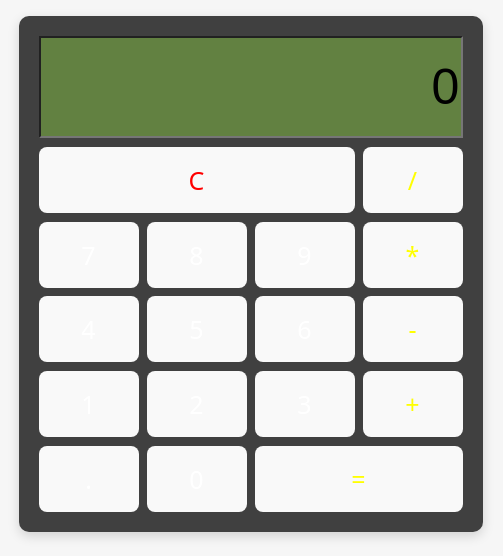
Test case: App integration: 1 + 2 = 3 via keypad clicks
// clear and type 1 using keyboard
Clear the field: (251, 87) [39, 36, 463, 138]
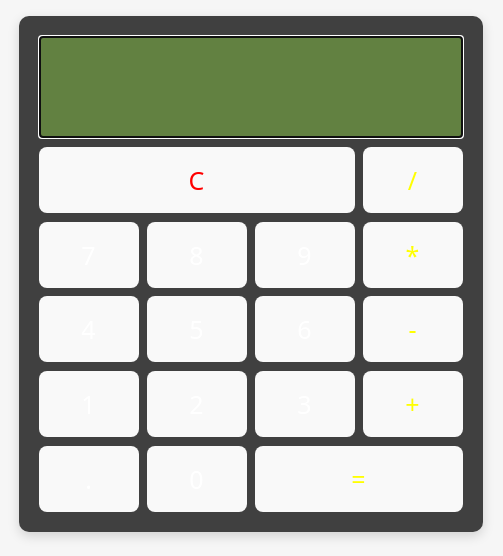
Type keys "1"
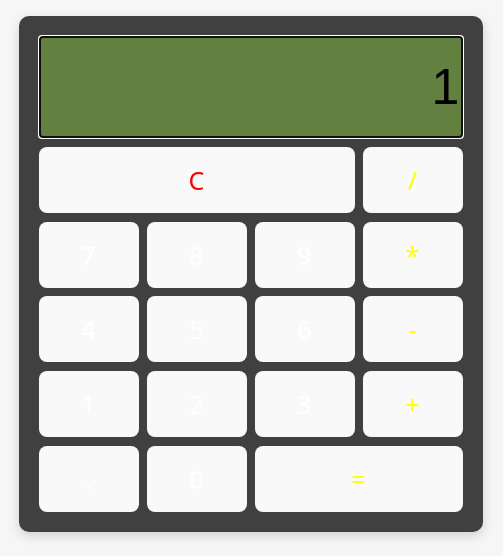
//  click +
Click the button "+": (413, 404) [363, 371, 463, 437]
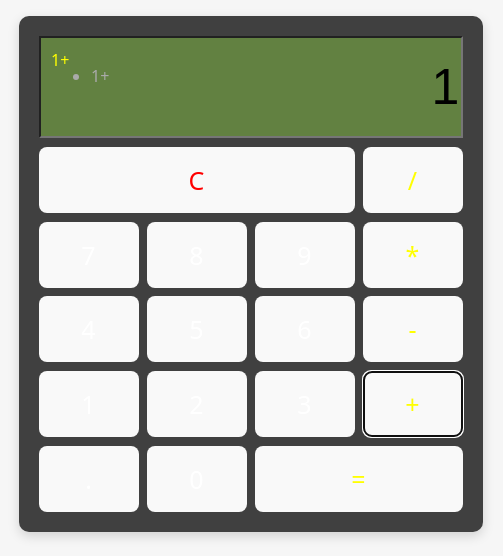
// clear and type 2 using keyboard
Clear the field: (251, 87) [39, 36, 463, 138]
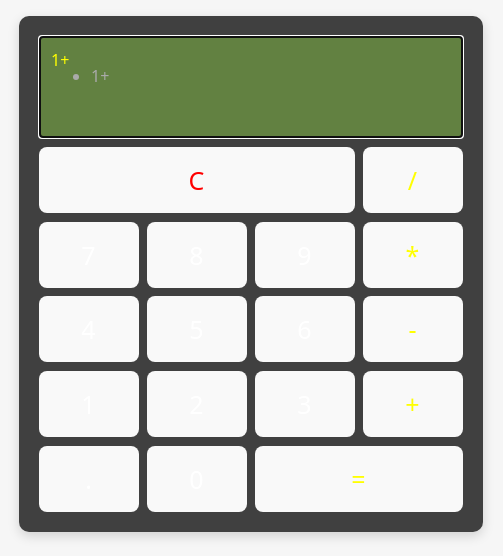
Type keys "2"
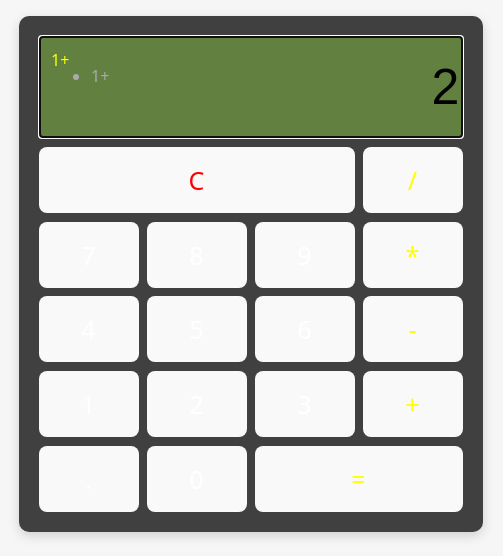
Click the button "=": (359, 479) [255, 446, 463, 512]
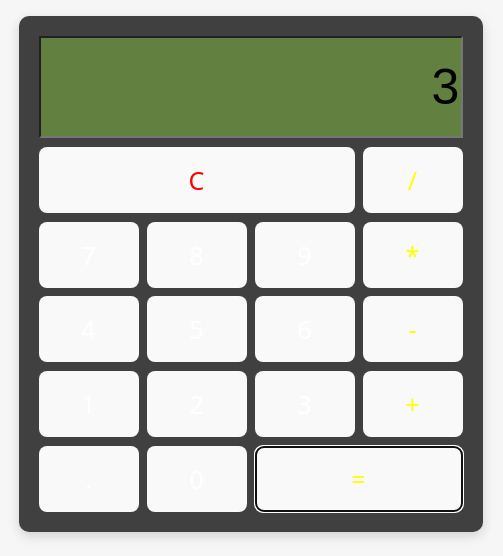
Expected: the field holds "3", [39, 36, 463, 138]
